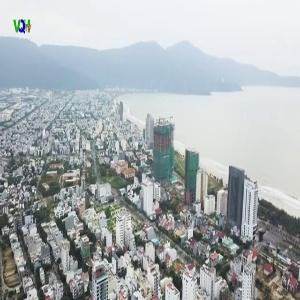drone: (238, 215, 288, 265)
